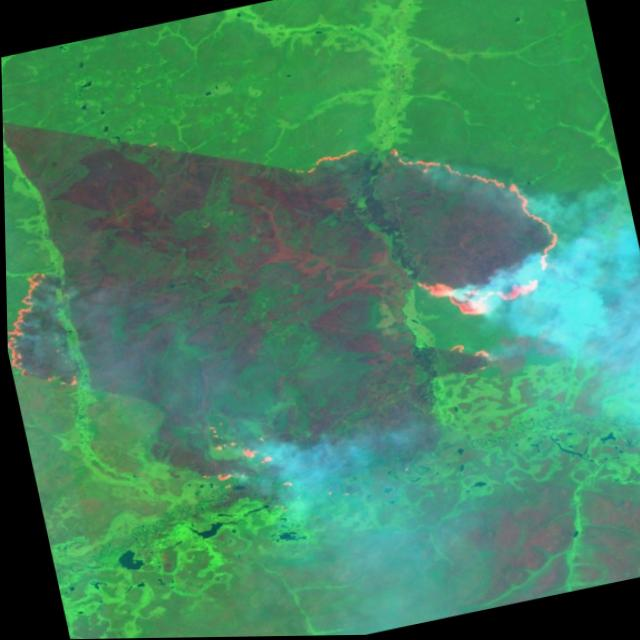fire: (288, 102, 587, 395), (166, 405, 290, 500), (4, 256, 85, 401)
